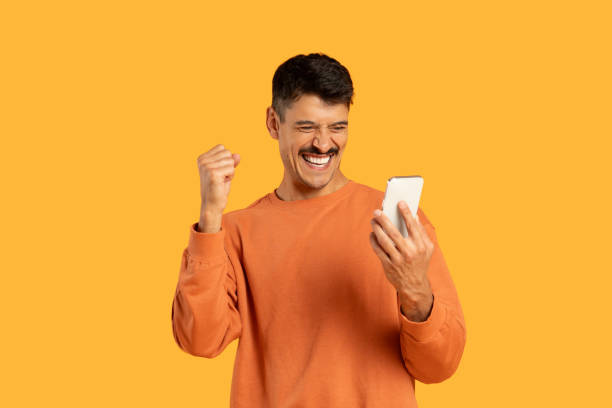Male: (169, 51, 471, 408)
